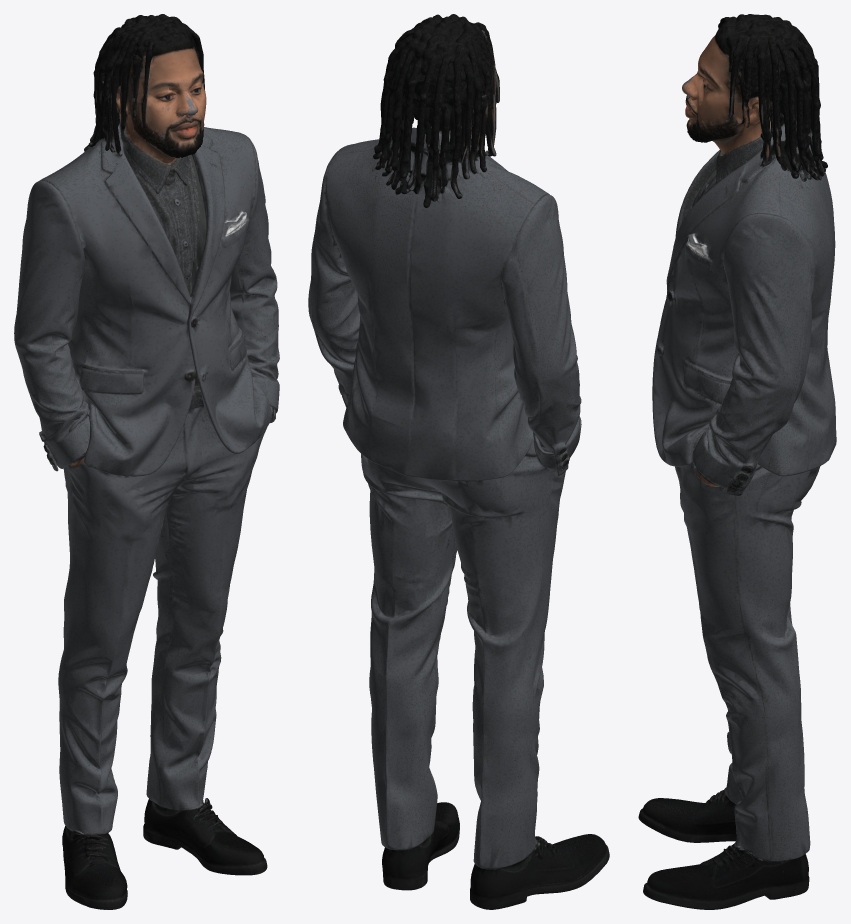
File: marquis-v13.glb
3 views of the same model, side by side, from view 1: azimuth 30°, elevation 25°; view 2: azimuth 150°, elevation 25°; view 3: azimuth 270°, elevation 25° (orthographic). The views are drawn at different scales.
Parts seen in each view (by area): view 1: mesh_node; view 2: mesh_node; view 3: mesh_node.
Boxes of the visible parts, left/top/right/bottom form: mesh_node: left=14, top=14, right=279, bottom=909; mesh_node: left=308, top=14, right=609, bottom=909; mesh_node: left=638, top=14, right=836, bottom=909.
Size of the model in its own units: 0.6007 by 1.9 by 0.3984.
Materials: 1 (1 with a texture image).
